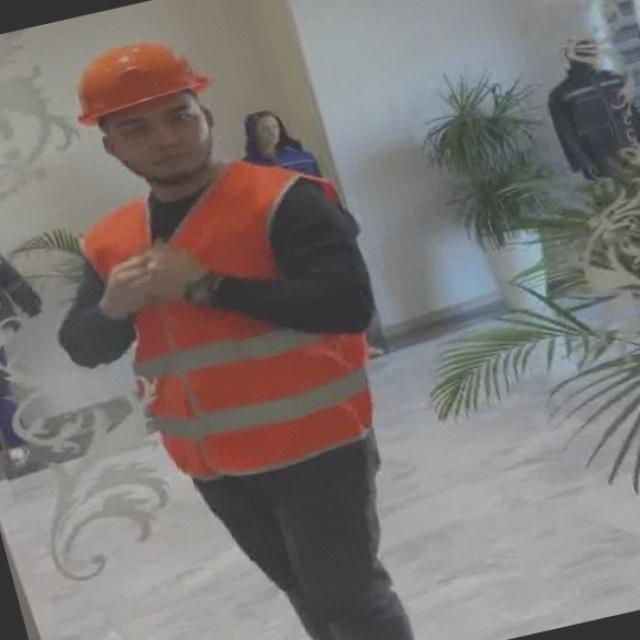Capacete: (78, 43, 208, 124)
Colete: (134, 299, 371, 477)
Pessoa: (59, 43, 413, 639), (243, 110, 321, 176), (0, 345, 29, 467)
